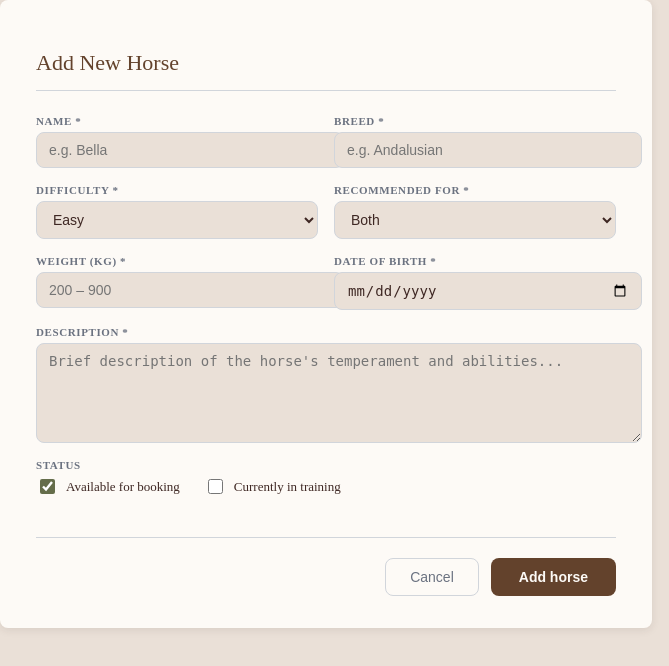
Scenario: HorseForm – Add mode › shows inline error for short name after blur
Type "A" into the field labelled "Name *" at (190, 150), box [36,132,344,168]
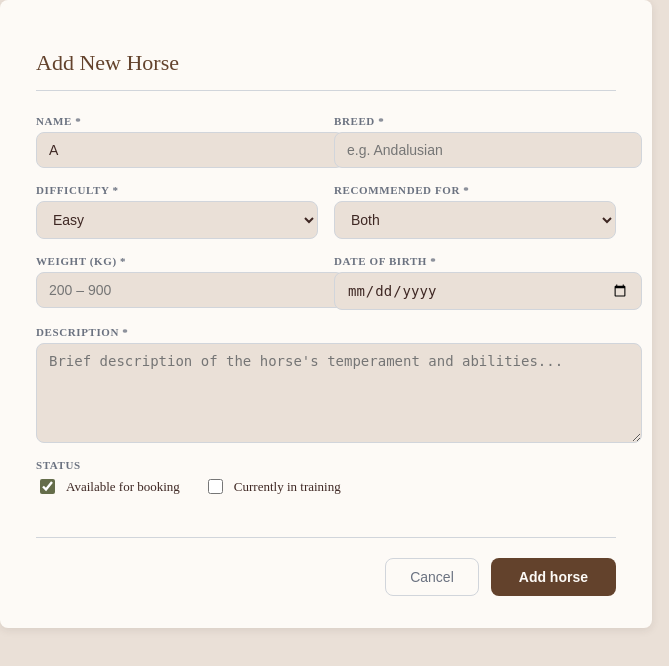
Leave the field labelled "Name *", box [36,132,344,168]
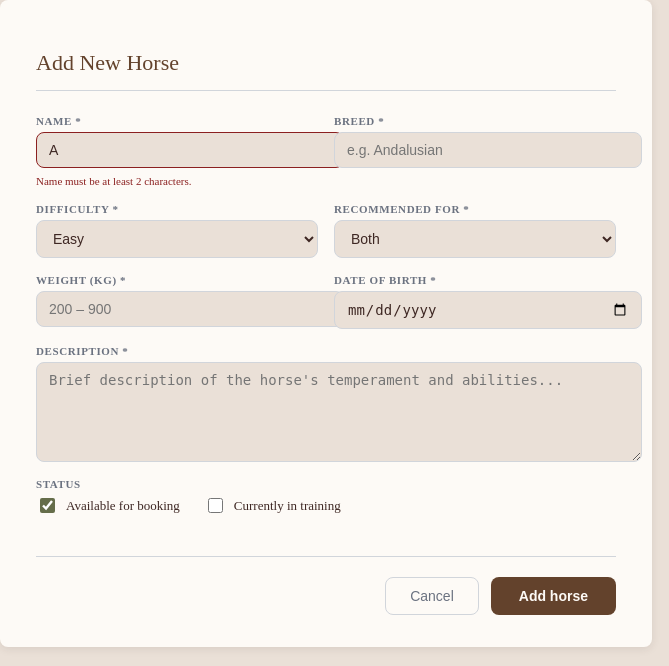
Check: the text "Name must be at least 2 characters." is shown, box [36,175,192,187]
